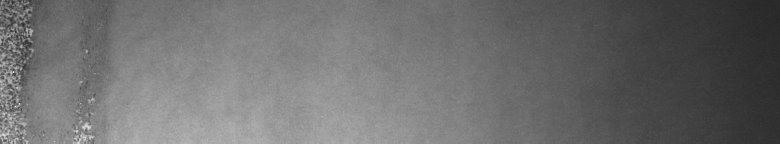hc: (4, 4, 102, 136)
